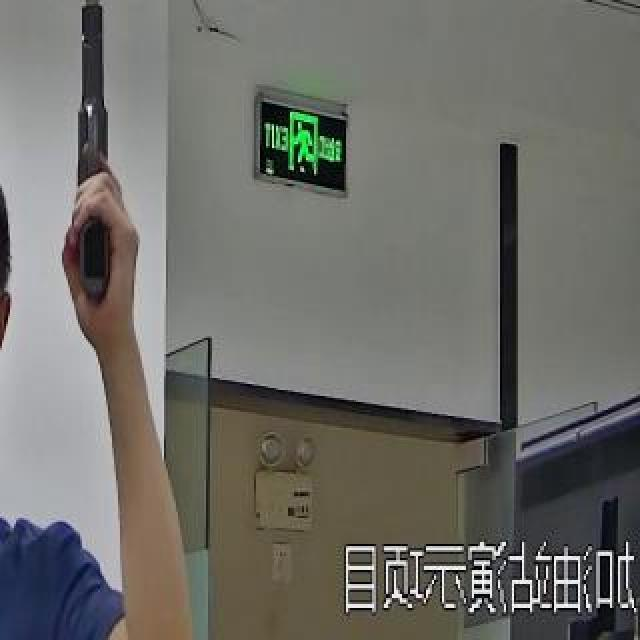Guns: (48, 0, 132, 340)
